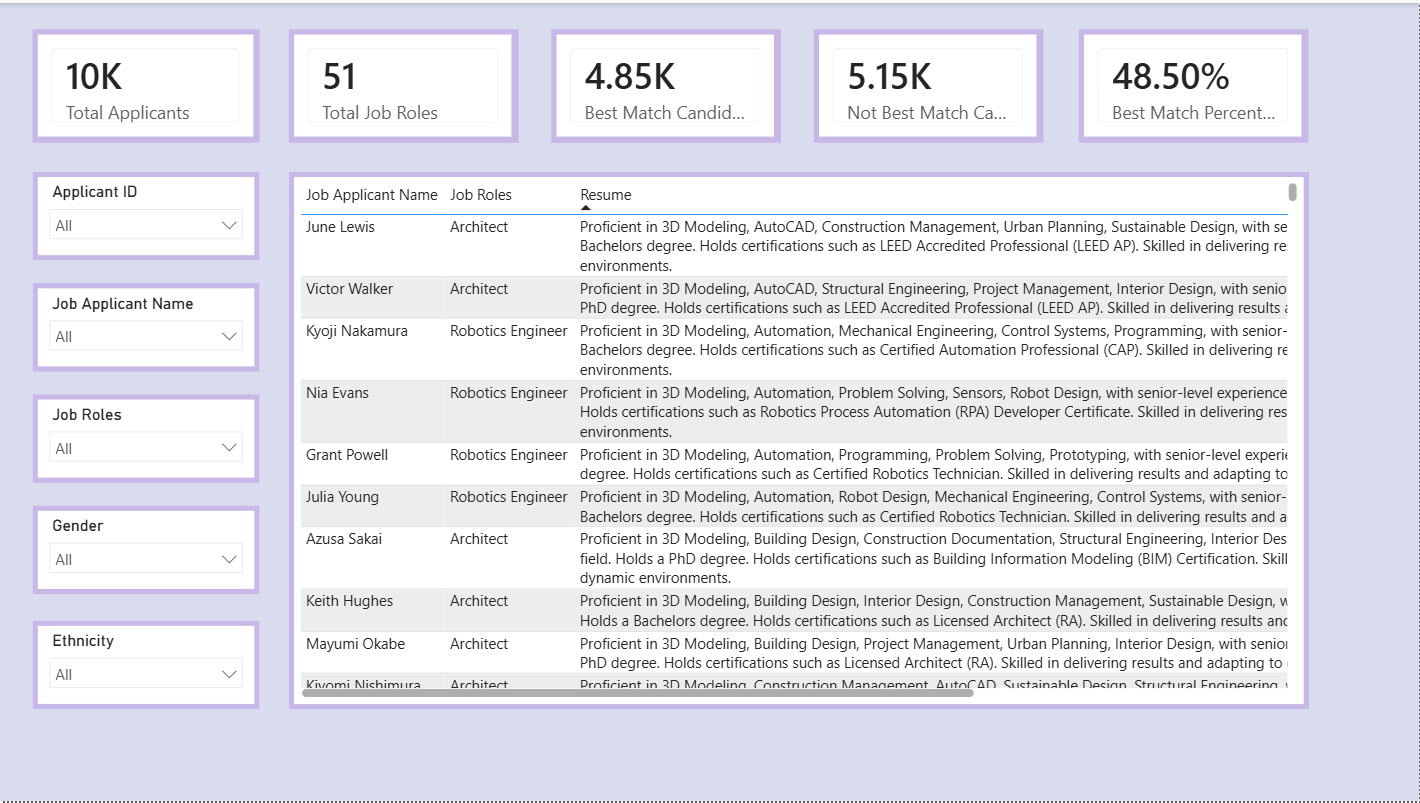

This screenshot's page, from the dashboard's own definition file:
{"tool":"powerbi","page":{"name":"Page 3","canvas":[1280,720],"ordinal":2},"visuals":[{"type":"cardVisual","fields":{"Data":["job_applicant_dataset (2).Total Applicants"]},"box":[29.1,23.3,204.7,102.3],"z":0},{"type":"cardVisual","fields":{"Data":["job_applicant_dataset (2).Total Job Roles"]},"box":[260.5,23.3,207,102.3],"z":1000},{"type":"cardVisual","fields":{"Data":["job_applicant_dataset (2).Best Match Candidates"]},"box":[496.5,23.3,207,102.3],"z":2000},{"type":"cardVisual","fields":{"Data":["job_applicant_dataset (2).Not Best Match Candidates"]},"box":[733.7,23.3,207,102.3],"z":3000},{"type":"cardVisual","fields":{"Data":["job_applicant_dataset (2).Best Match Percentage"]},"box":[973.3,23.3,207,102.3],"z":4000},{"type":"slicer","fields":{"Values":["job_applicant_dataset (2).Applicant ID"]},"box":[29.1,152.3,204.7,80.2],"z":5000},{"type":"slicer","fields":{"Values":["job_applicant_dataset (2).Job Applicant Name"]},"box":[29.1,252.3,204.7,80.2],"z":6000},{"type":"slicer","fields":{"Values":["job_applicant_dataset (2).Job Roles"]},"box":[29.1,352.3,204.7,80.2],"z":7000},{"type":"slicer","fields":{"Values":["job_applicant_dataset (2).Gender"]},"box":[29.1,453.5,204.7,80.2],"z":8000},{"type":"slicer","fields":{"Values":["job_applicant_dataset (2).Ethnicity"]},"box":[29.1,557,204.7,80.2],"z":9000},{"type":"tableEx","fields":{"Values":["job_applicant_dataset (2).Job Applicant Name","job_applicant_dataset (2).Job Roles","job_applicant_dataset (2).Resume","job_applicant_dataset (2).Age","job_applicant_dataset (2).Gender","job_applicant_dataset (2).Ethnicity"]},"box":[260.5,152.3,919.8,484.9],"z":10000}]}

Visuals, with their boxes in screenshot pixels (x1, y1, x2, y2), scaled from the page's 1280x720 canvas onto the 1420x803 screenshot:
cardVisual - job_applicant_dataset (2).Total Applicants: l=32, t=26, r=259, b=140
cardVisual - job_applicant_dataset (2).Total Job Roles: l=289, t=26, r=519, b=140
cardVisual - job_applicant_dataset (2).Best Match Candidates: l=551, t=26, r=780, b=140
cardVisual - job_applicant_dataset (2).Not Best Match Candidates: l=814, t=26, r=1044, b=140
cardVisual - job_applicant_dataset (2).Best Match Percentage: l=1080, t=26, r=1309, b=140
slicer - job_applicant_dataset (2).Applicant ID: l=32, t=170, r=259, b=259
slicer - job_applicant_dataset (2).Job Applicant Name: l=32, t=281, r=259, b=371
slicer - job_applicant_dataset (2).Job Roles: l=32, t=393, r=259, b=482
slicer - job_applicant_dataset (2).Gender: l=32, t=506, r=259, b=595
slicer - job_applicant_dataset (2).Ethnicity: l=32, t=621, r=259, b=711
tableEx - job_applicant_dataset (2).Job Applicant Name x job_applicant_dataset (2).Job Roles: l=289, t=170, r=1309, b=711
